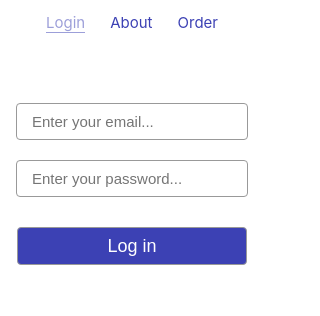
<LoginPass /> › should show password error message on invalid password
In the password field with placeholder "Enter your password...": (132, 178) [16,160,248,197], type "1234"
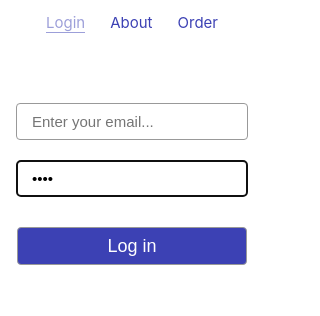
Click the button "Log in": (132, 246) [17,227,247,265]
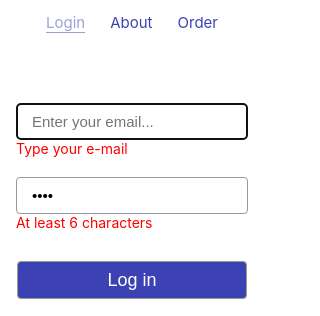
Expected: the text "At least 6 characters" is shown, [16,214,152,231]
